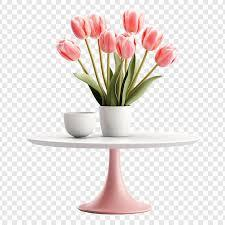flower: (57, 14, 178, 103)
table: (30, 135, 193, 214)
vase: (98, 107, 135, 137), (65, 112, 95, 137)
